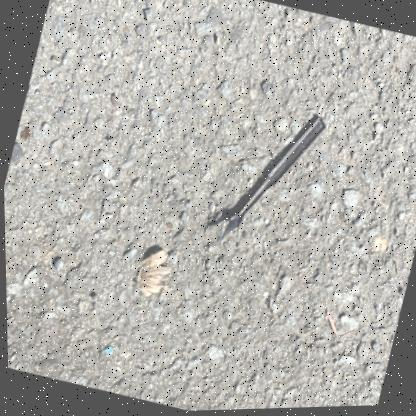Glass: (19, 126, 28, 137), (110, 95, 115, 103), (393, 68, 398, 73), (122, 25, 125, 31)
Plastic: (217, 117, 324, 241), (101, 345, 111, 354)
